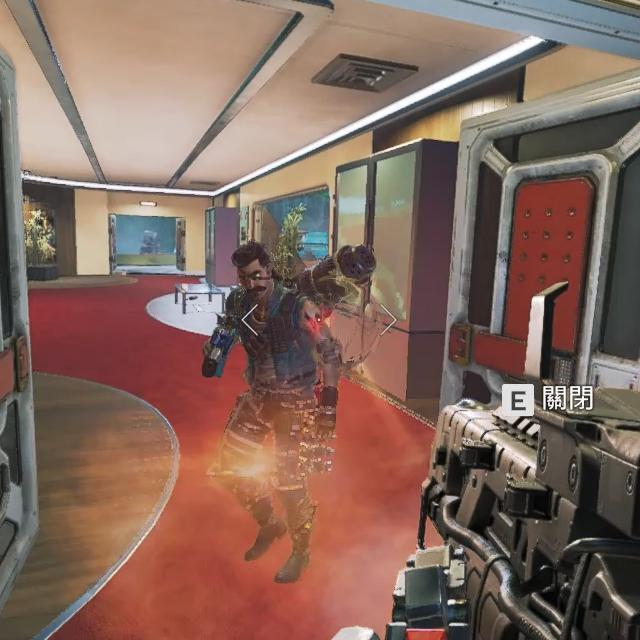avatar: (196, 242, 341, 588)
